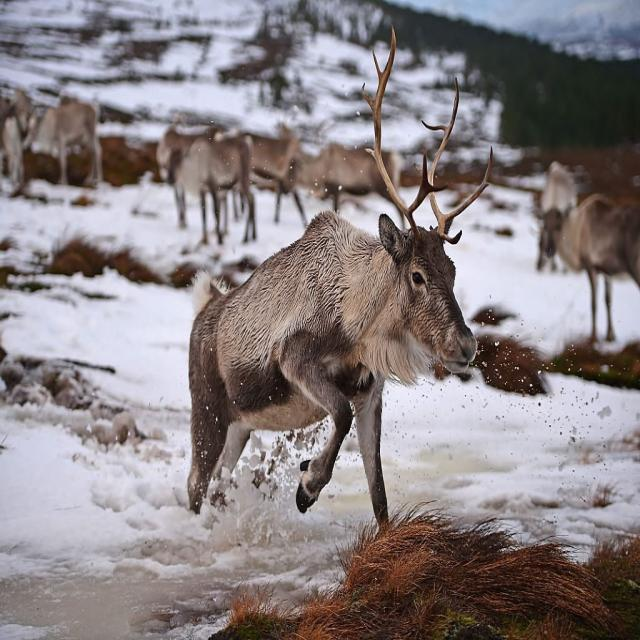Reindeer: (186, 19, 500, 533), (530, 172, 640, 352), (153, 113, 267, 241), (18, 83, 108, 199)
